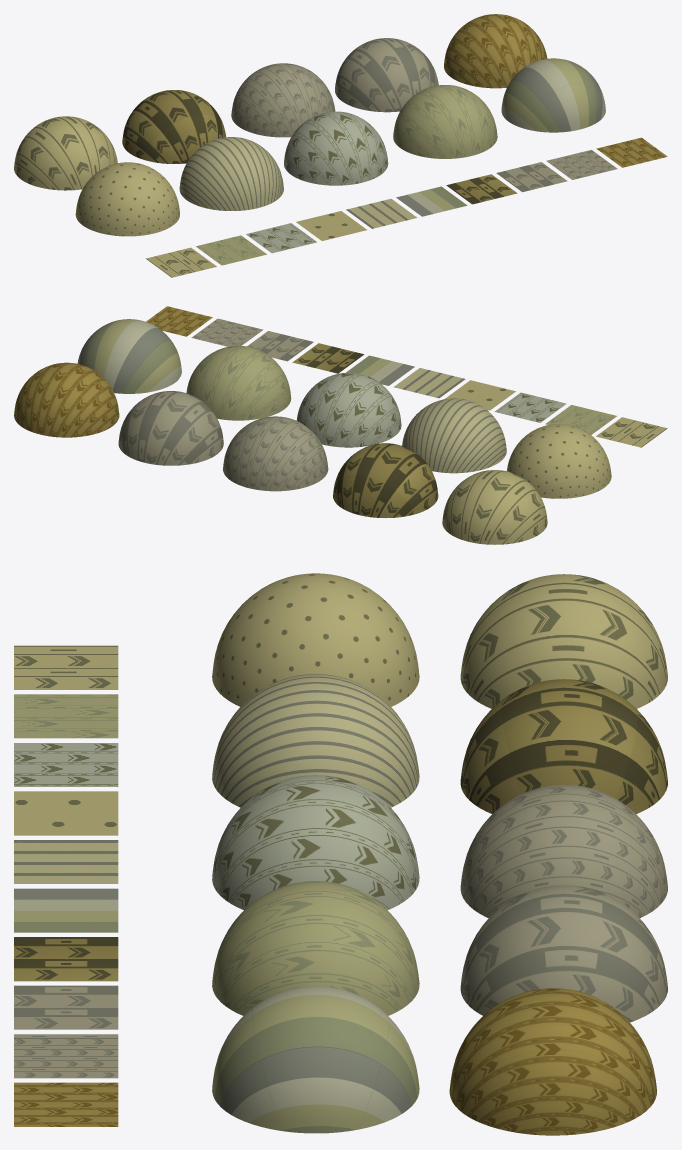
The model's file is backrooms_wallpapers.glb.
3 views of the same model, one above another, from view 1: azimuth 30°, elevation 25°; view 2: azimuth 150°, elevation 25°; view 3: azimuth 270°, elevation 25° (orthographic). The views are drawn at different scales.
Parts seen in each view (by area): view 1: Sphere_10, Sphere.002_12, Sphere.004_14, Sphere.003_13, Sphere.001_11, Sphere.006_16, Sphere.009_19, Sphere.007_17, Sphere.008_18, Sphere.005_15, Colours_5, BR_3_2 (+8 smaller); view 2: Sphere.005_15, Sphere.008_18, Sphere.006_16, Sphere.009_19, Sphere.007_17, Sphere.002_12, Sphere.001_11, Sphere.003_13, Sphere_10, Sphere.004_14, BR_Stripes_4, BR_3_2 (+8 smaller); view 3: Sphere.004_14, Sphere.005_15, Sphere.002_12, Sphere.007_17, Sphere.003_13, Sphere.006_16, Sphere.009_19, Sphere.001_11, Sphere_10, Sphere.008_18, BR_Dots_3, BR_1_0 (+8 smaller).
Boxes of the visible parts, left/top/right/bottom form: Sphere_10: left=75, top=162, right=179, bottom=236; Sphere.002_12: left=284, top=111, right=388, bottom=185; Sphere.004_14: left=501, top=58, right=605, bottom=132; Sphere.003_13: left=393, top=85, right=497, bottom=158; Sphere.001_11: left=179, top=137, right=283, bottom=210; Sphere.006_16: left=14, top=116, right=117, bottom=190; Sphere.009_19: left=335, top=38, right=438, bottom=112; Sphere.007_17: left=122, top=90, right=225, bottom=163; Sphere.008_18: left=231, top=63, right=335, bottom=137; Sphere.005_15: left=444, top=14, right=547, bottom=88; Colours_5: left=396, top=186, right=467, bottom=216; BR_3_2: left=246, top=223, right=316, bottom=253; Sphere.005_15: left=14, top=362, right=119, bottom=437; Sphere.008_18: left=223, top=416, right=328, bottom=491; Sphere.006_16: left=442, top=470, right=547, bottom=544; Sphere.009_19: left=118, top=391, right=223, bottom=465; Sphere.007_17: left=333, top=443, right=438, bottom=518; Sphere.002_12: left=296, top=372, right=401, bottom=447; Sphere.001_11: left=402, top=398, right=506, bottom=473; Sphere.003_13: left=186, top=345, right=291, bottom=420; Sphere_10: left=507, top=424, right=611, bottom=498; Sphere.004_14: left=77, top=319, right=181, bottom=393; BR_Stripes_4: left=393, top=368, right=465, bottom=398; BR_3_2: left=495, top=392, right=566, bottom=422; Sphere.004_14: left=212, top=986, right=419, bottom=1133; Sphere.005_15: left=449, top=988, right=656, bottom=1135; Sphere.002_12: left=212, top=775, right=419, bottom=910; Sphere.007_17: left=460, top=679, right=667, bottom=813; Sphere.003_13: left=212, top=881, right=419, bottom=1015; Sphere.006_16: left=460, top=574, right=667, bottom=708; Sphere.009_19: left=460, top=885, right=667, bottom=1022; Sphere.001_11: left=212, top=674, right=419, bottom=807; Sphere_10: left=212, top=573, right=419, bottom=706; Sphere.008_18: left=460, top=785, right=667, bottom=918; BR_Dots_3: left=14, top=791, right=118, bottom=835; BR_1_0: left=14, top=645, right=118, bottom=689.
Bounding box in the file's own units: 11.39 × 0.9976 × 6.26.
10 materials, 10 textured.
